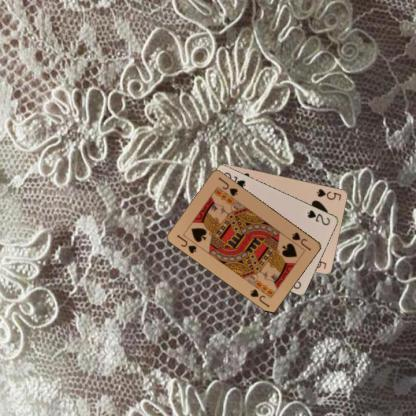2s: (305, 208, 332, 226)
5s: (314, 186, 343, 202)
Js: (175, 232, 198, 254), (290, 230, 312, 252)
